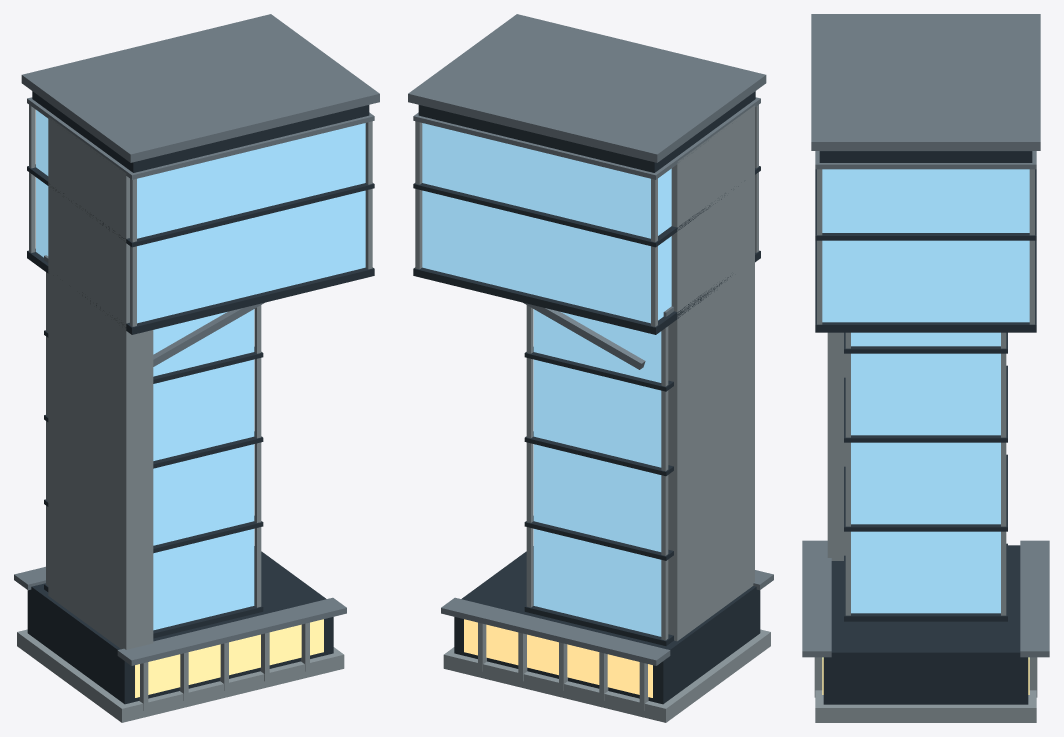
File: vrx_city_exchange_a_LOD1.fbx
3 renders of one model, left to right at view 1: azimuth 30°, elevation 25°; view 2: azimuth 150°, elevation 25°; view 3: azimuth 270°, elevation 25°, orthographic. The views are drawn at different scales.
Parts seen in each view (by area): view 1: vrx_city_exchange_a_LOD1; view 2: vrx_city_exchange_a_LOD1; view 3: vrx_city_exchange_a_LOD1.
Boxes of the visible parts, x1,y1,x2,y2 form: vrx_city_exchange_a_LOD1: (14,14,379,722); vrx_city_exchange_a_LOD1: (408,14,773,722); vrx_city_exchange_a_LOD1: (802,14,1049,722).
Size of the model in its own units: 38 by 80.6 by 30.2.
